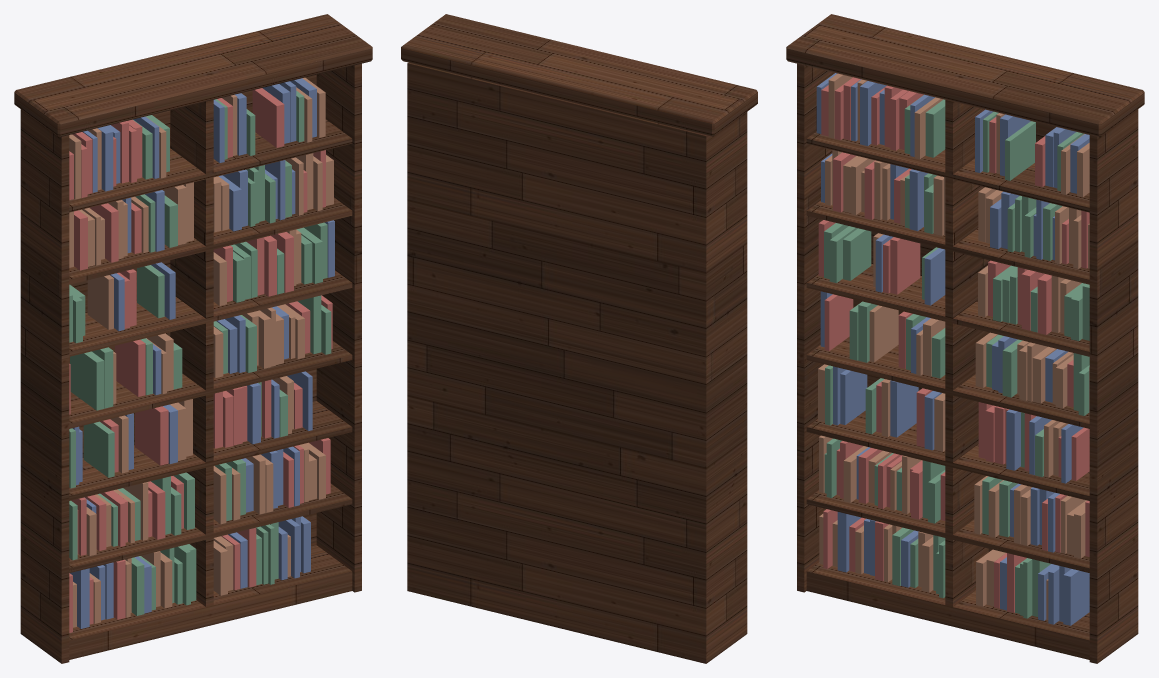
Rendered from bookcase.glb.
3 views of the same model, side by side, from view 1: azimuth 30°, elevation 25°; view 2: azimuth 150°, elevation 25°; view 3: azimuth 330°, elevation 25° (orthographic).
Parts seen in each view (by area): view 1: bookcase_dkwood, bookcase_leather, bookcase_book_g, bookcase_book_r, bookcase_book_b; view 2: bookcase_dkwood; view 3: bookcase_dkwood, bookcase_leather, bookcase_book_g, bookcase_book_b, bookcase_book_r.
Boxes of the visible parts, box(x1,y1,x2,y2) form: bookcase_dkwood: box(14, 14, 372, 663); bookcase_leather: box(69, 77, 333, 627); bookcase_book_g: box(69, 91, 331, 615); bookcase_book_r: box(69, 88, 332, 632); bookcase_book_b: box(70, 78, 334, 628); bookcase_dkwood: box(401, 14, 757, 663); bookcase_dkwood: box(786, 14, 1144, 663); bookcase_leather: box(818, 73, 1089, 620); bookcase_book_g: box(824, 95, 1089, 618); bookcase_book_b: box(816, 73, 1089, 625); bookcase_book_r: box(818, 77, 1089, 612).
Bounding box in the file's own units: 1.68 × 2.78 × 0.42.
Materials: 5 (1 with a texture image).
